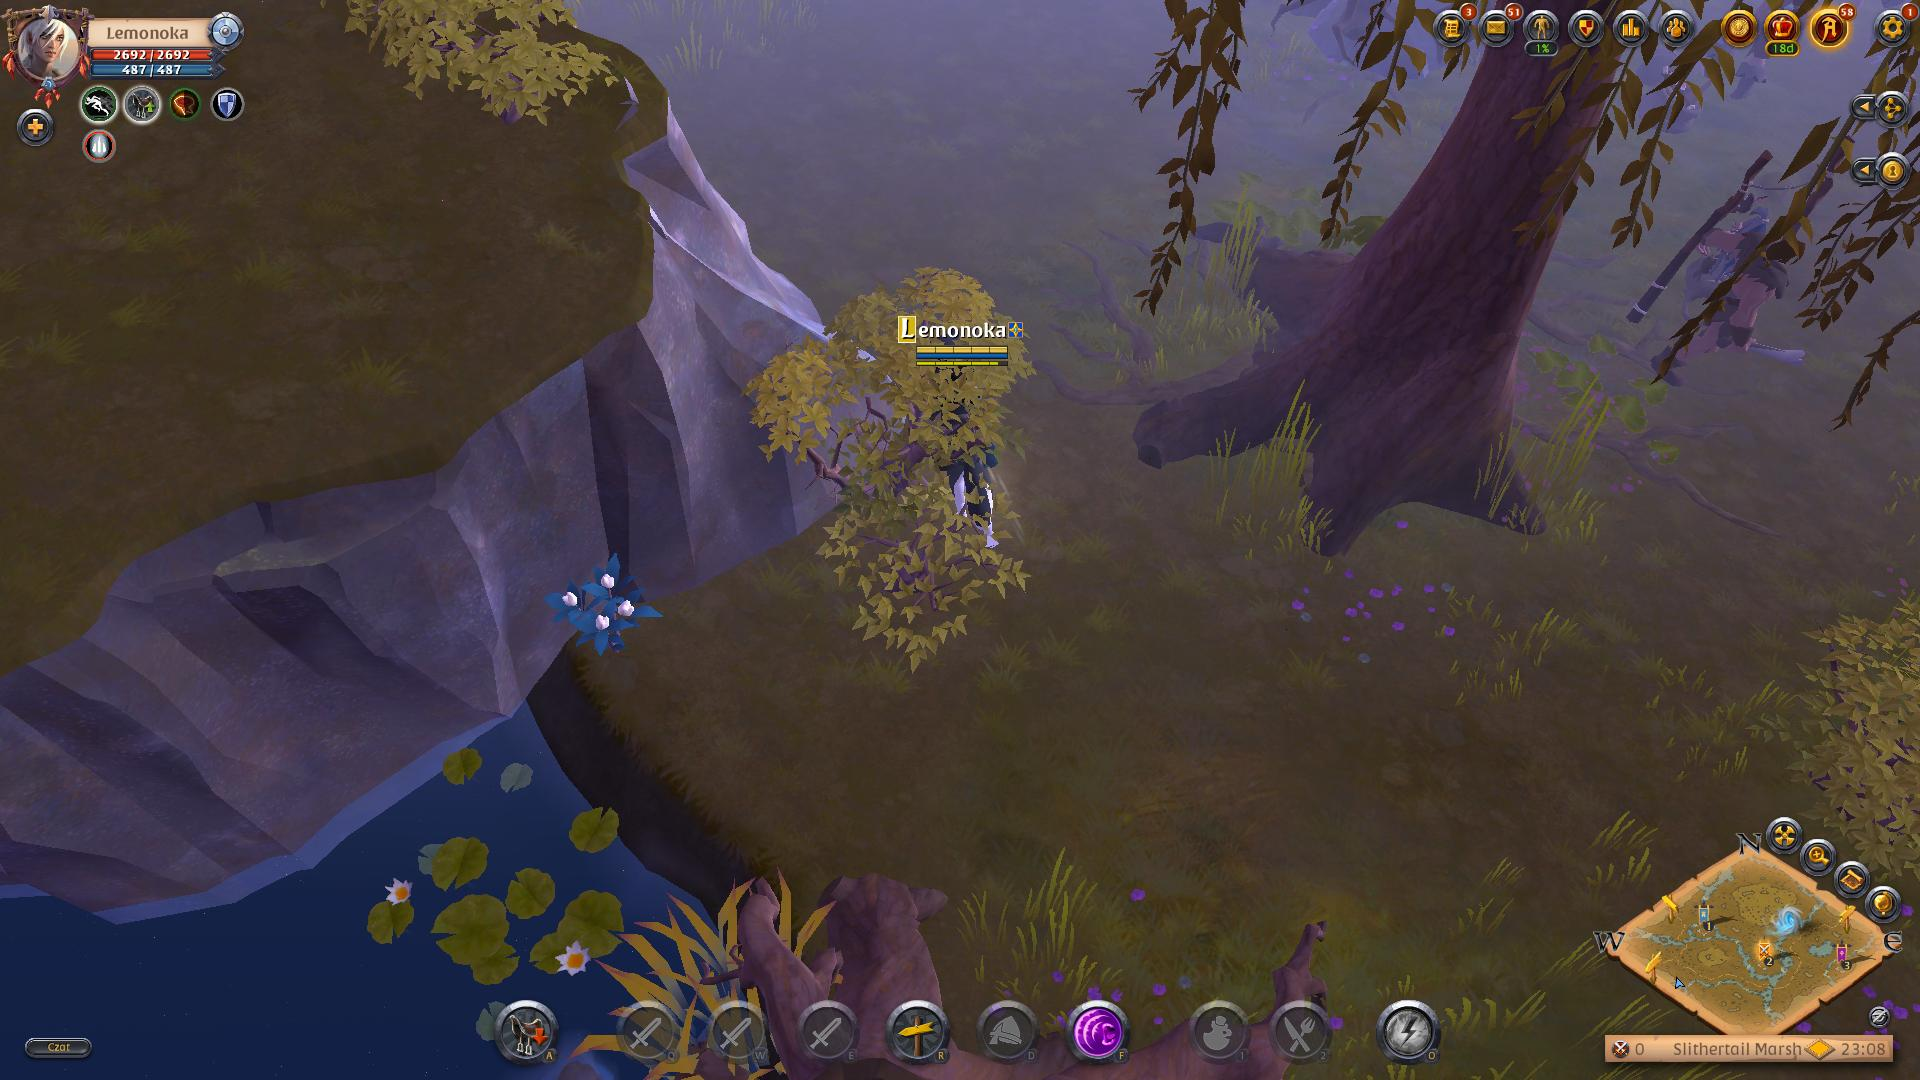fiber tier 4: (538, 543, 667, 663)
